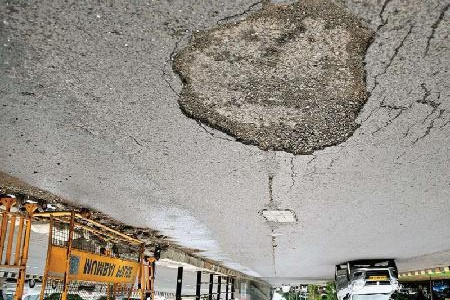pothole: (166, 0, 375, 160)
